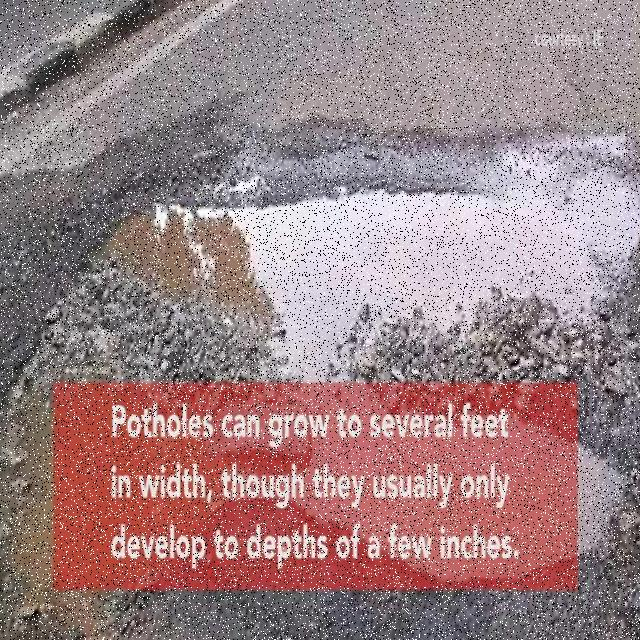pothole: (89, 170, 638, 368)
